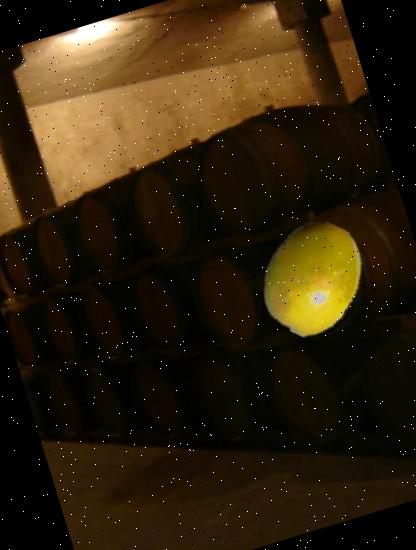Maracuja: (241, 206, 385, 350)
